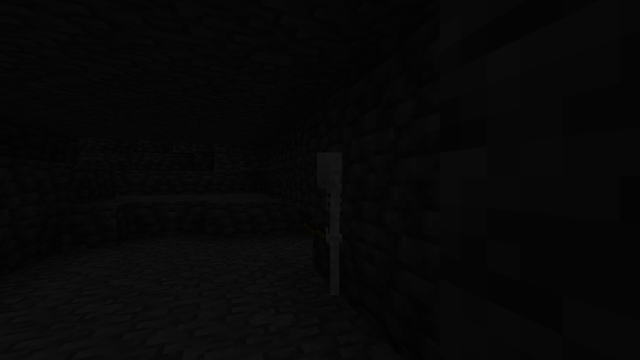squelettes: (308, 152, 343, 301)
